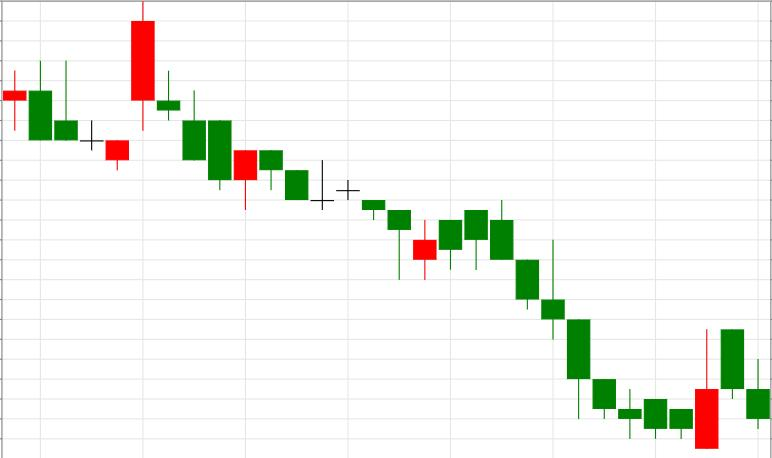bullish_engulfing_rise: (464, 199, 718, 448)
